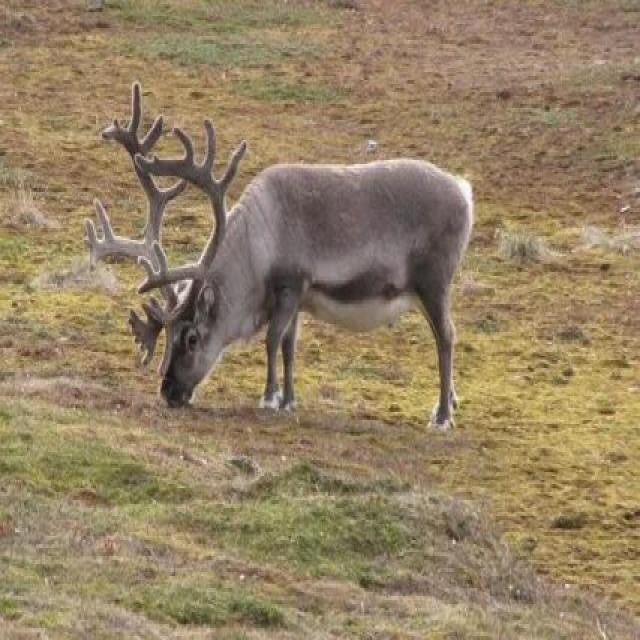deer: (107, 69, 430, 447)
